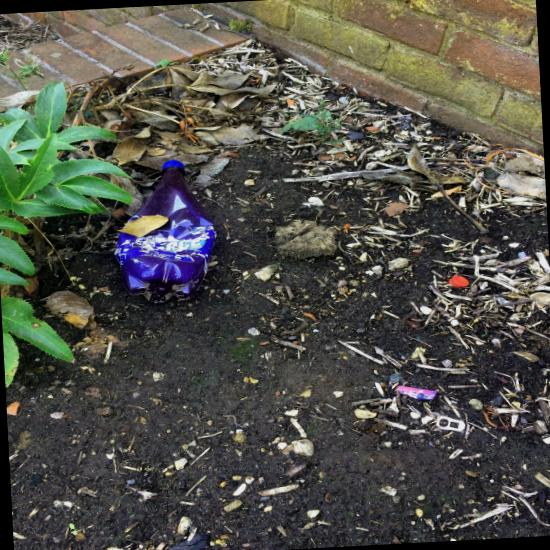Clear plastic bottle: (114, 160, 218, 303)
Metal bottle cap: (449, 276, 469, 287)
Other plastic: (397, 386, 437, 400)
Plastic bottle cap: (163, 160, 185, 169)
Pop tab: (436, 416, 466, 431), (439, 419, 451, 427), (450, 422, 459, 429)
